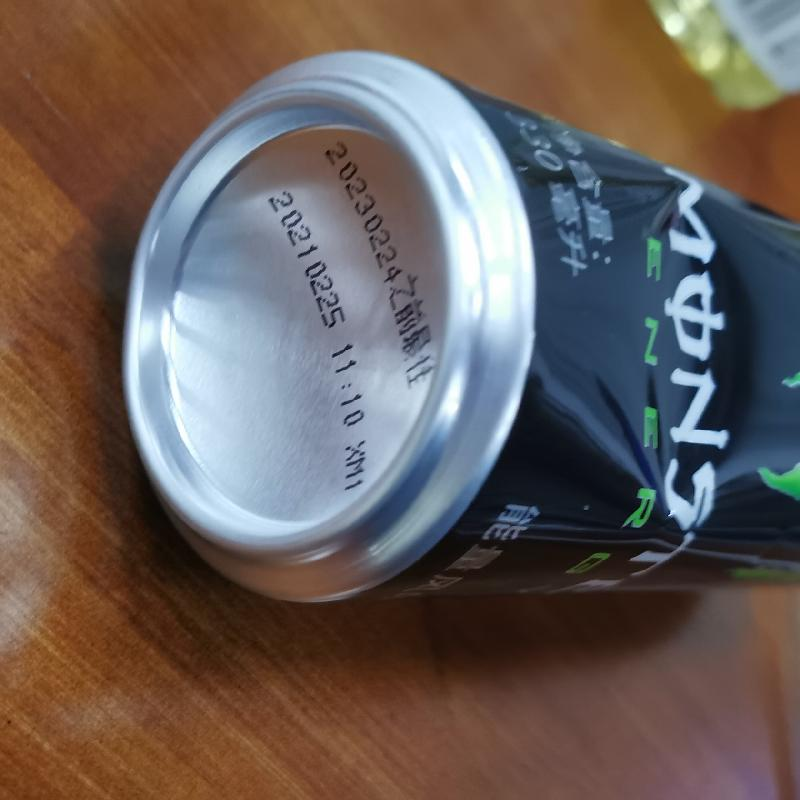cans: (111, 47, 799, 628)
